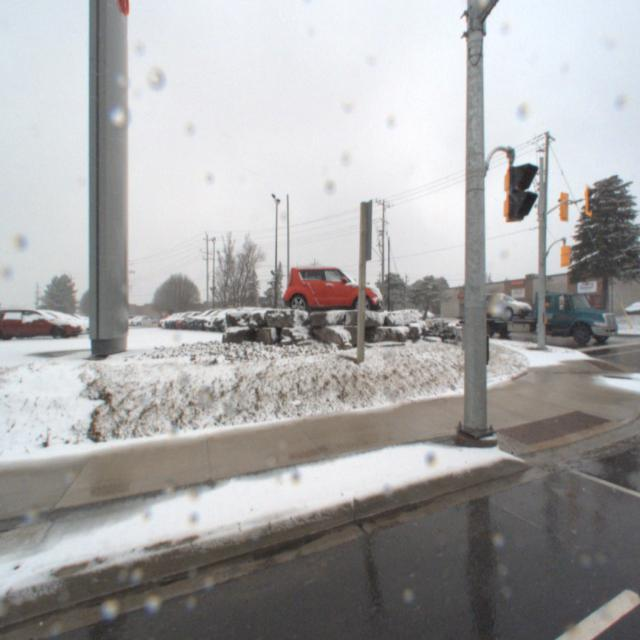Car: (278, 264, 384, 319), (230, 304, 304, 334), (218, 303, 282, 333), (208, 301, 268, 332), (200, 304, 256, 330), (182, 303, 236, 328), (190, 304, 246, 328)
Truck: (432, 279, 624, 348)
